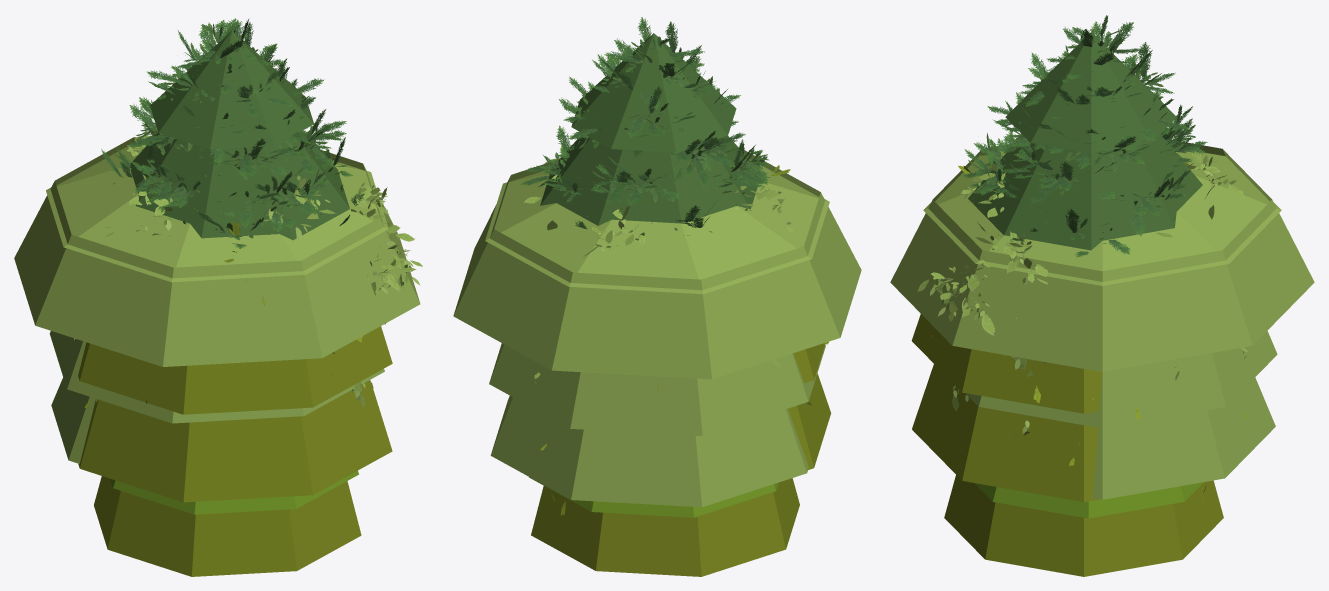
Rendered from trees.glb.
The picture shows the model from 3 angles, left to right: view 1: azimuth 30°, elevation 25°; view 2: azimuth 150°, elevation 25°; view 3: azimuth 270°, elevation 25°; orthographic projection.
Visible parts, largest first — view 1: birch-3-leaf, willow-3-leaf, fir-3-leaf, fir-2-leaf, fir-1-leaf, fir-0-leaf, maple-3-leaf, birch-2-leaf, birch-0-leaf, birch-1-leaf; view 2: birch-3-leaf, fir-3-leaf, willow-3-leaf, fir-2-leaf, fir-1-leaf, fir-0-leaf, maple-3-leaf, birch-2-leaf; view 3: birch-3-leaf, willow-3-leaf, fir-3-leaf, fir-2-leaf, maple-3-leaf, fir-1-leaf, fir-0-leaf, birch-2-leaf, birch-1-leaf, birch-0-leaf.
Part boxes in pixels (x1,y1,x2,y2): birch-3-leaf: (14, 137, 420, 463); willow-3-leaf: (78, 326, 392, 576); fir-3-leaf: (130, 31, 349, 240); fir-2-leaf: (101, 18, 364, 248); fir-1-leaf: (109, 22, 352, 236); fir-0-leaf: (112, 24, 347, 240); maple-3-leaf: (110, 470, 358, 514); birch-2-leaf: (74, 128, 422, 406); birch-0-leaf: (105, 137, 417, 400); birch-1-leaf: (105, 130, 420, 399); birch-3-leaf: (453, 150, 861, 507); fir-3-leaf: (540, 33, 767, 225); willow-3-leaf: (531, 343, 831, 576); fir-2-leaf: (519, 17, 781, 245); fir-1-leaf: (534, 31, 769, 227); fir-0-leaf: (545, 36, 763, 232); maple-3-leaf: (529, 477, 778, 517); birch-2-leaf: (524, 144, 786, 366); birch-3-leaf: (890, 142, 1314, 499); willow-3-leaf: (911, 314, 1223, 576); fir-3-leaf: (968, 32, 1202, 250); fir-2-leaf: (963, 21, 1219, 257); maple-3-leaf: (974, 482, 1203, 518); fir-1-leaf: (968, 15, 1195, 246); fir-0-leaf: (972, 20, 1195, 241); birch-2-leaf: (918, 147, 1245, 440); birch-1-leaf: (923, 154, 1247, 434); birch-0-leaf: (929, 158, 1246, 432).
Size of the model in its own units: 16.63 by 21.77 by 16.63.
Materials: 24 (7 with a texture image).
